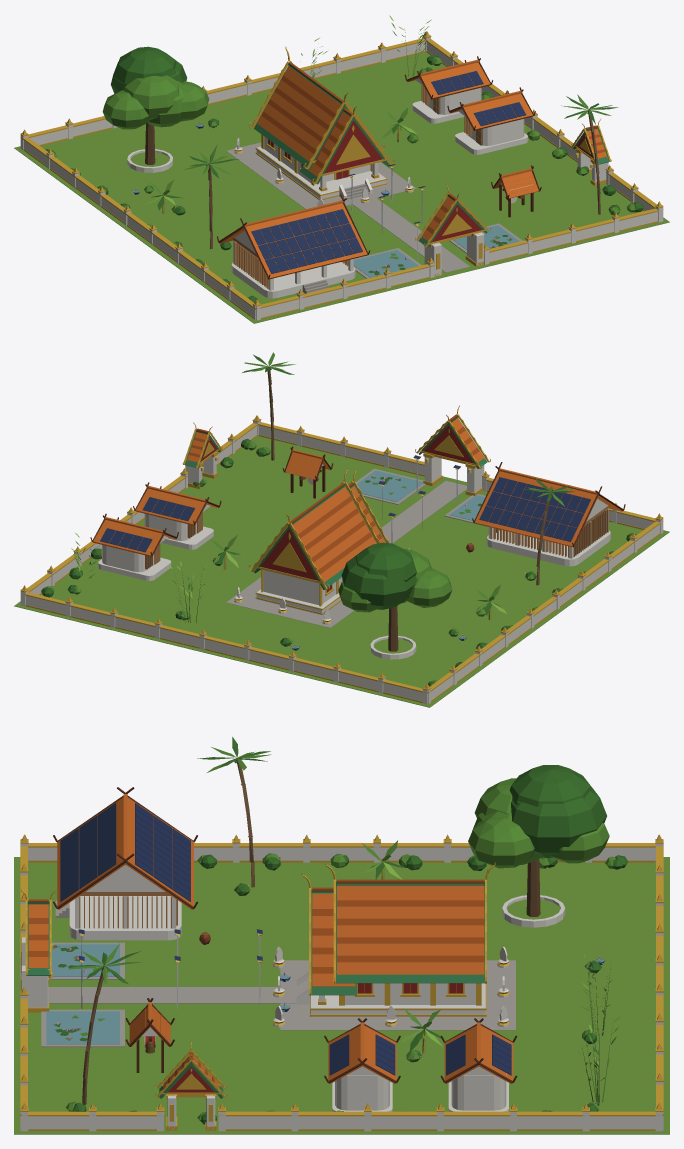
File: temple_1.glb
The picture shows the model from 3 angles, top to bottom: view 1: azimuth 30°, elevation 25°; view 2: azimuth 150°, elevation 25°; view 3: azimuth 270°, elevation 25°; orthographic projection. The views are drawn at different scales.
Parts seen in each view (by area): view 1: body; view 2: body; view 3: body.
Part boxes in pixels (x1,y1,x2,y2): body: (14,15,669,323); body: (14,352,669,707); body: (14,737,669,1134).
Bounding box in the file's own units: 47.9 × 11.96 × 47.9.
